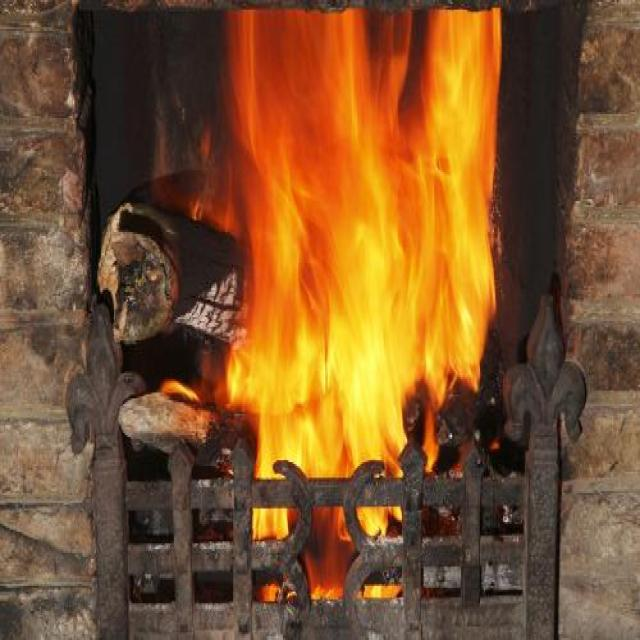Fire: (160, 9, 503, 602)
